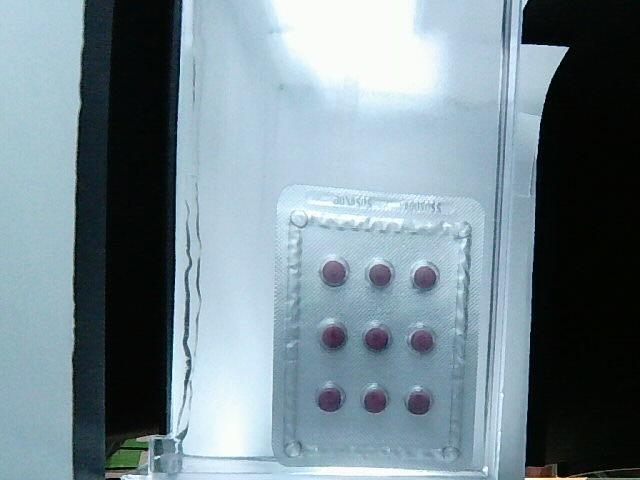Light Front: (270, 186, 487, 474)
Pill Front: (365, 325, 391, 352), (407, 390, 433, 417), (316, 386, 342, 412), (413, 264, 438, 290), (366, 265, 391, 289), (363, 390, 387, 415), (322, 325, 346, 349), (410, 329, 434, 353), (323, 261, 345, 283)
